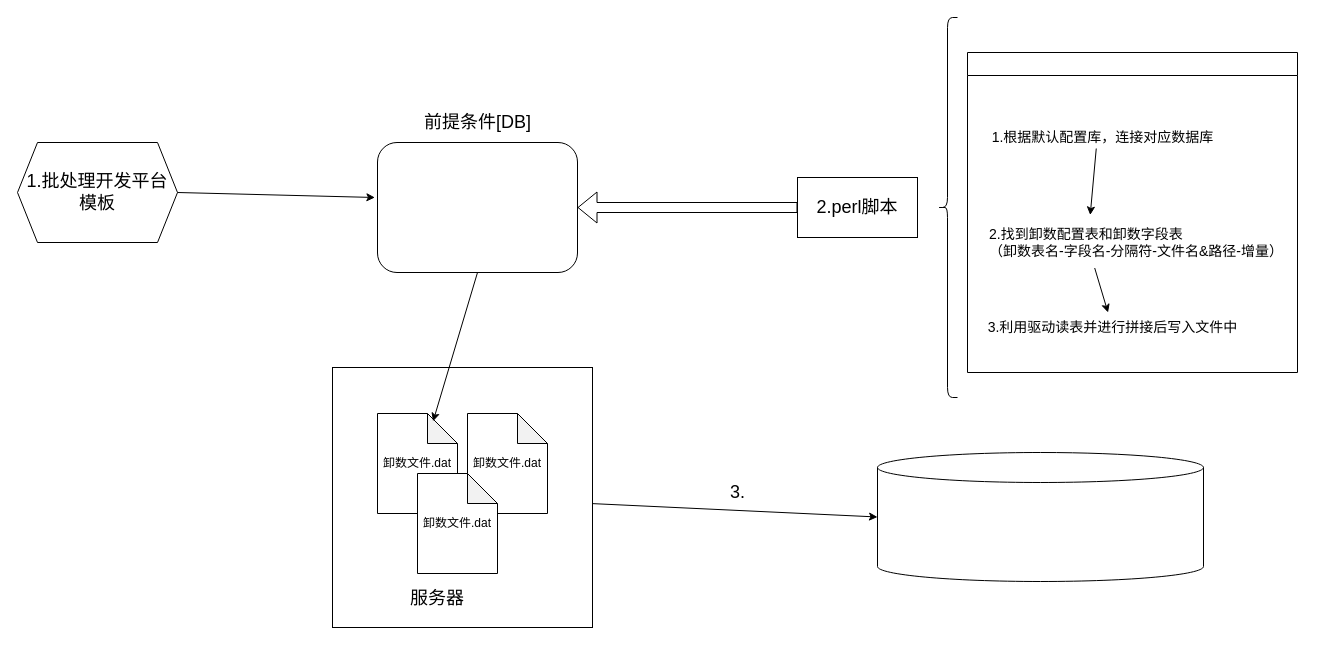
This 1325x645 diagram has some shape labels left out. Each missing label, with the box of its shape:
Container: (966, 52, 1298, 372)
在对应组件的DB中的固定卸数表和字段表里配置需要卸数的表: (376, 142, 578, 272)
数据仓库: (876, 452, 1204, 582)
